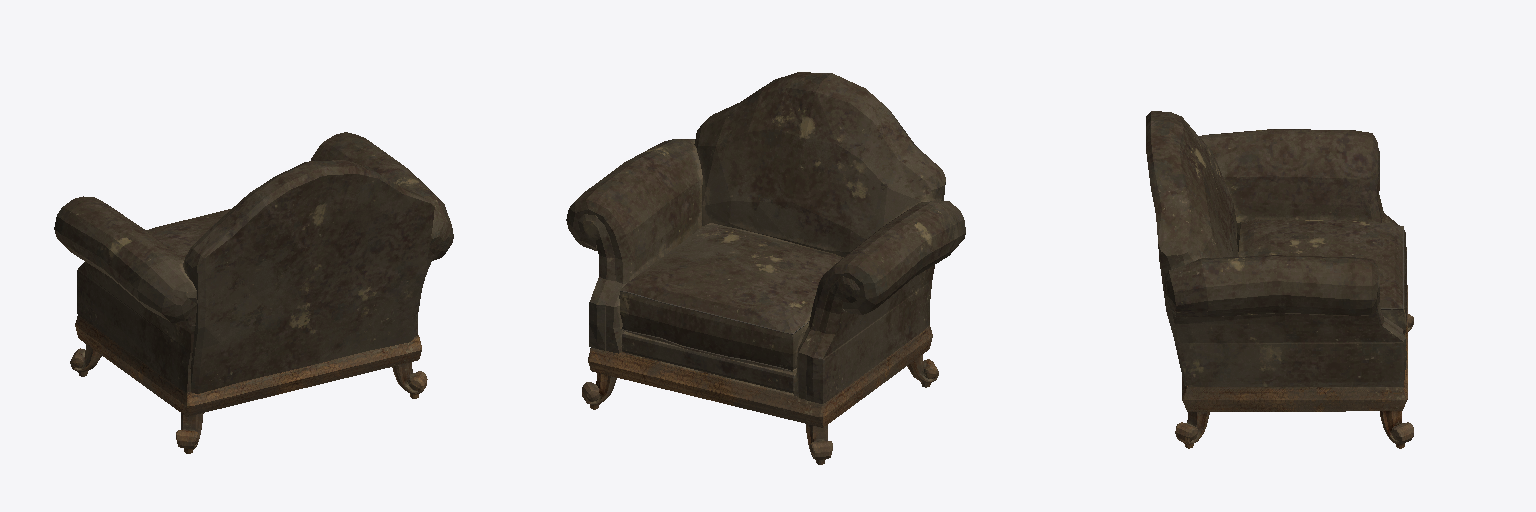
The picture shows the model from 3 angles: view 1: azimuth 30°, elevation 25°; view 2: azimuth 150°, elevation 25°; view 3: azimuth 270°, elevation 25°; orthographic projection.
Parts seen in each view (by area): view 1: SM_Armchair_02; view 2: SM_Armchair_02; view 3: SM_Armchair_02.
Boxes of the visible parts, x1=… form: SM_Armchair_02: x1=54, y1=132, x2=453, y2=453; SM_Armchair_02: x1=566, y1=72, x2=965, y2=464; SM_Armchair_02: x1=1146, y1=111, x2=1413, y2=448.
Bounding box in the file's own units: 137 × 112 × 101.
2 materials, 2 textured.